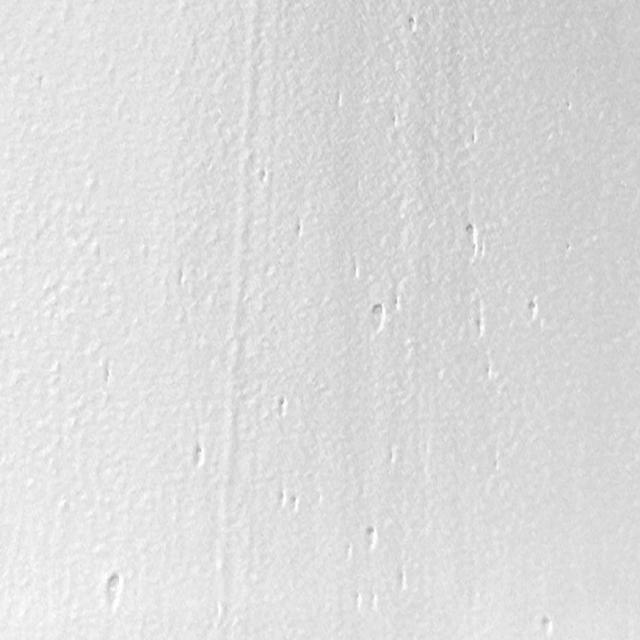pin holes: (103, 570, 126, 608), (459, 222, 481, 256), (366, 302, 386, 334), (360, 526, 380, 554), (524, 297, 544, 325), (97, 357, 117, 385), (536, 613, 558, 638), (188, 444, 208, 470), (272, 392, 290, 420), (394, 569, 413, 595), (471, 312, 489, 339), (403, 12, 421, 35), (273, 489, 290, 512), (350, 258, 366, 282), (255, 166, 272, 188), (350, 590, 364, 612), (342, 540, 354, 564), (367, 591, 381, 611), (293, 222, 306, 242), (289, 494, 302, 514), (389, 113, 402, 130)
